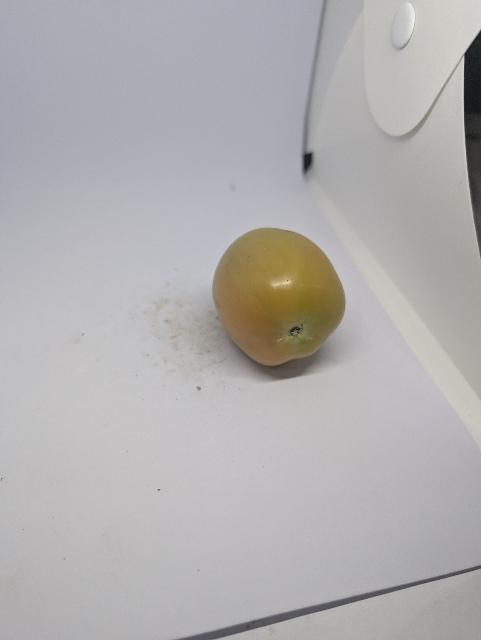breaker: (213, 228, 346, 365)
